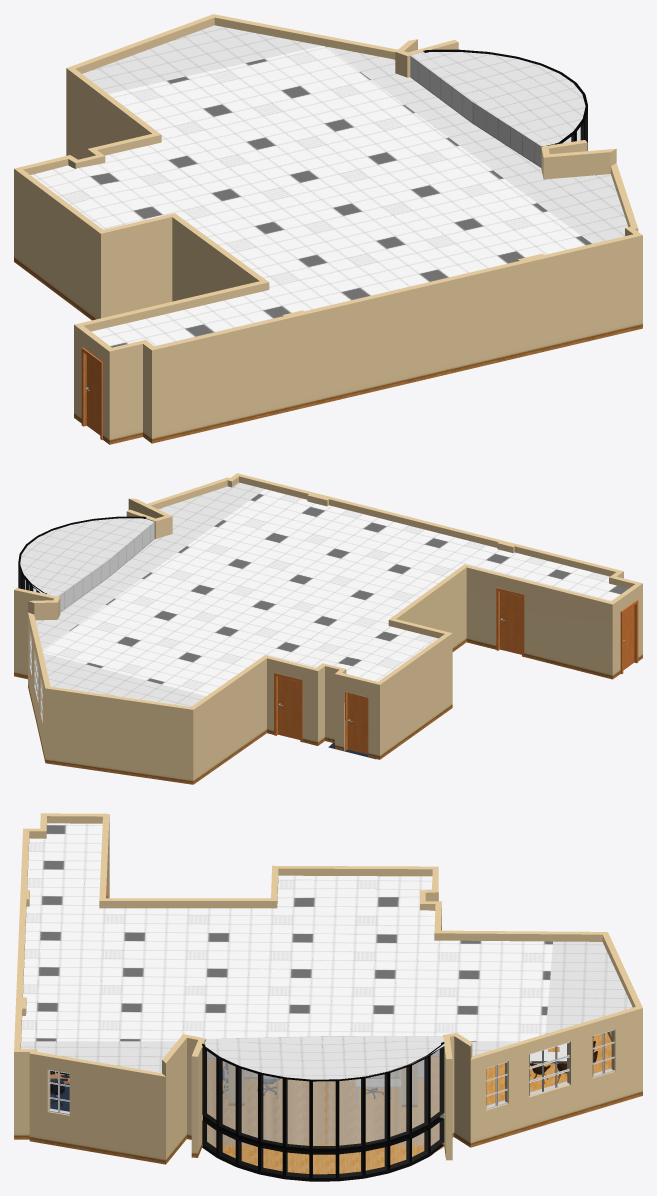
File: Ruang_Guru.glb
The picture shows the model from 3 angles, top to bottom: view 1: azimuth 30°, elevation 25°; view 2: azimuth 150°, elevation 25°; view 3: azimuth 270°, elevation 25°; orthographic projection. The views are drawn at different scales.
Parts seen in each view (by area): view 1: Pillar.001_Walls_0, Floor.003_ceilingtiles_0, Floor.003_ceilingtiles_plain_0, Doors_Door_Solid_0, RoundWindowMetal.001_Metal_Black_0; view 2: Floor.003_ceilingtiles_0, Pillar.001_Walls_0, Floor.003_ceilingtiles_plain_0, Doors_Door_Solid_0, RoundWindowMetal.001_Metal_Black_0; view 3: Floor.003_ceilingtiles_0, Pillar.001_Walls_0, Floor.003_ceilingtiles_plain_0, Floor.002_woodFloor_0, curtain_low.001_Curtain_0, RoundWindowMetal.001_Metal_Black_0, Windows.001_SmallWindow_0.
Boxes of the visible parts, x1,y1,x2,y2 form: Pillar.001_Walls_0: (14, 14, 642, 444); Floor.003_ceilingtiles_0: (31, 46, 591, 347); Floor.003_ceilingtiles_plain_0: (82, 25, 627, 243); Doors_Door_Solid_0: (81, 347, 102, 439); RoundWindowMetal.001_Metal_Black_0: (423, 49, 587, 150); Floor.003_ceilingtiles_0: (42, 489, 628, 696); Pillar.001_Walls_0: (14, 473, 642, 784); Floor.003_ceilingtiles_plain_0: (20, 482, 264, 706); Doors_Door_Solid_0: (274, 587, 638, 754); RoundWindowMetal.001_Metal_Black_0: (18, 516, 146, 593); Floor.003_ceilingtiles_0: (21, 823, 552, 1042); Pillar.001_Walls_0: (14, 813, 642, 1164); Floor.003_ceilingtiles_plain_0: (21, 941, 632, 1079); Floor.002_woodFloor_0: (207, 1032, 611, 1174); curtain_low.001_Curtain_0: (207, 1053, 444, 1145); RoundWindowMetal.001_Metal_Black_0: (202, 1042, 444, 1181); Windows.001_SmallWindow_0: (48, 1029, 614, 1114).
Bounding box in the file's own units: 17.01 × 2.91 × 16.1.
Materials: 19 (16 with a texture image).
